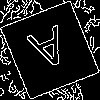A: (25, 25, 75, 80)
